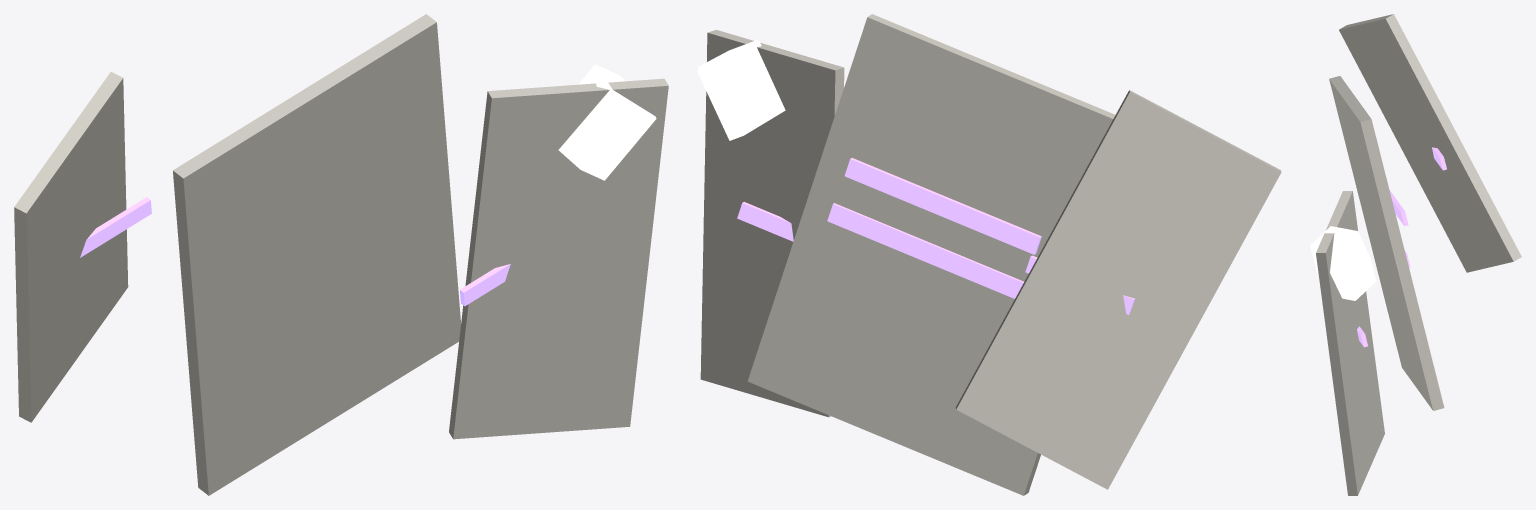
The model's file is pagina_suelta.glb.
The picture shows the model from 3 angles, left to right: view 1: azimuth 30°, elevation 25°; view 2: azimuth 150°, elevation 25°; view 3: azimuth 270°, elevation 25°; orthographic projection. The views are drawn at different scales.
Visible parts, largest first — view 1: Pagina_Cuerpo_Centro, Pagina_Ala_Derecha, Pagina_Ala_Izquierda, Pagina_Cristal_Escarcha, Pagina_Trazo_3, Pagina_Trazo_4; view 2: Pagina_Cuerpo_Centro, Pagina_Ala_Izquierda, Pagina_Ala_Derecha, Pagina_Cristal_Escarcha, Pagina_Trazo_0, Pagina_Trazo_1, Pagina_Trazo_4; view 3: Pagina_Ala_Izquierda, Pagina_Cuerpo_Centro, Pagina_Ala_Derecha, Pagina_Cristal_Escarcha, Pagina_Trazo_0.
Part boxes in pixels (x1=…): Pagina_Cuerpo_Centro: x1=173, y1=14, x2=460, y2=495; Pagina_Ala_Derecha: x1=449, y1=78, x2=668, y2=439; Pagina_Ala_Izquierda: x1=14, y1=72, x2=128, y2=422; Pagina_Cristal_Escarcha: x1=558, y1=64, x2=656, y2=180; Pagina_Trazo_3: x1=80, y1=197, x2=151, y2=257; Pagina_Trazo_4: x1=460, y1=264, x2=510, y2=306; Pagina_Cuerpo_Centro: x1=747, y1=14, x2=1115, y2=495; Pagina_Ala_Izquierda: x1=955, y1=90, x2=1281, y2=489; Pagina_Ala_Derecha: x1=700, y1=30, x2=844, y2=417; Pagina_Cristal_Escarcha: x1=697, y1=39, x2=785, y2=140; Pagina_Trazo_0: x1=844, y1=158, x2=1041, y2=254; Pagina_Trazo_1: x1=827, y1=203, x2=1023, y2=298; Pagina_Trazo_4: x1=737, y1=202, x2=793, y2=241; Pagina_Ala_Izquierda: x1=1339, y1=14, x2=1521, y2=272; Pagina_Cuerpo_Centro: x1=1329, y1=76, x2=1444, y2=410; Pagina_Ala_Derecha: x1=1316, y1=191, x2=1384, y2=495; Pagina_Cristal_Escarcha: x1=1310, y1=226, x2=1376, y2=300; Pagina_Trazo_0: x1=1389, y1=190, x2=1408, y2=226.
Bounding box in the file's own units: 0.7079 × 0.4833 × 0.2918.
